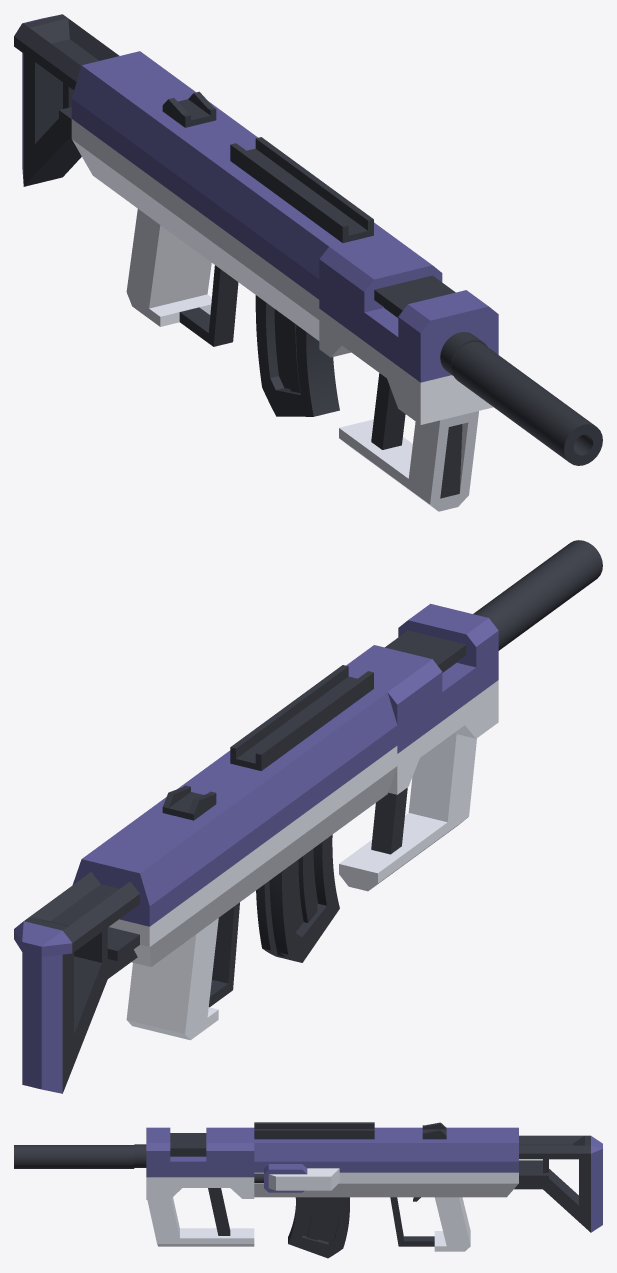
File: rifle4.fbx
3 views of the same model, one above another, from view 1: azimuth 30°, elevation 25°; view 2: azimuth 150°, elevation 25°; view 3: azimuth 270°, elevation 25° (orthographic). The views are drawn at different scales.
Parts seen in each view (by area): view 1: mergedBlocks; view 2: mergedBlocks; view 3: mergedBlocks.
Boxes of the visible parts, x1,y1,x2,y2 form: mergedBlocks: [14, 14, 602, 511]; mergedBlocks: [14, 540, 602, 1093]; mergedBlocks: [14, 1122, 602, 1258].
Bounding box in the file's own units: 5.63 × 11.8 × 49.
